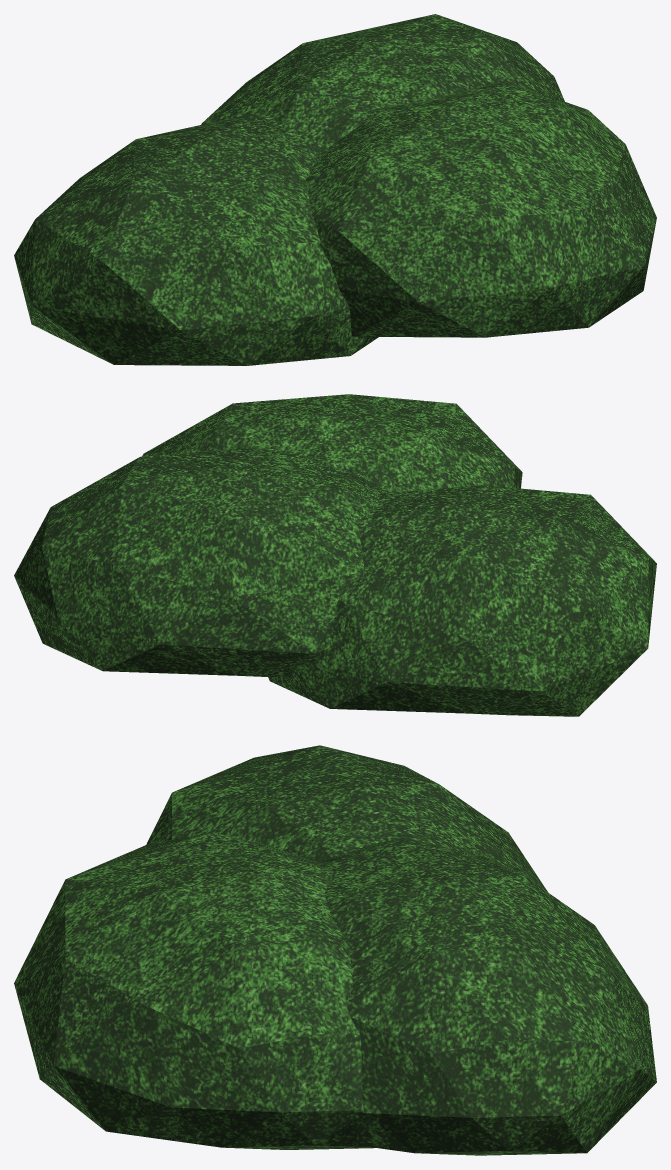
Rendered from smallbushB.fbx.
3 views of the same model, one above another, from view 1: azimuth 30°, elevation 25°; view 2: azimuth 150°, elevation 25°; view 3: azimuth 270°, elevation 25° (orthographic). The views are drawn at different scales.
Visible parts, largest first — view 1: bush.002; view 2: bush.002; view 3: bush.002.
Boxes of the visible parts, x1=… form: bush.002: x1=14, y1=14, x2=656, y2=365; bush.002: x1=14, y1=394, x2=656, y2=716; bush.002: x1=14, y1=745, x2=656, y2=1155.
Size of the model in its own units: 188 by 66.21 by 157.
Materials: 1 (1 with a texture image).
